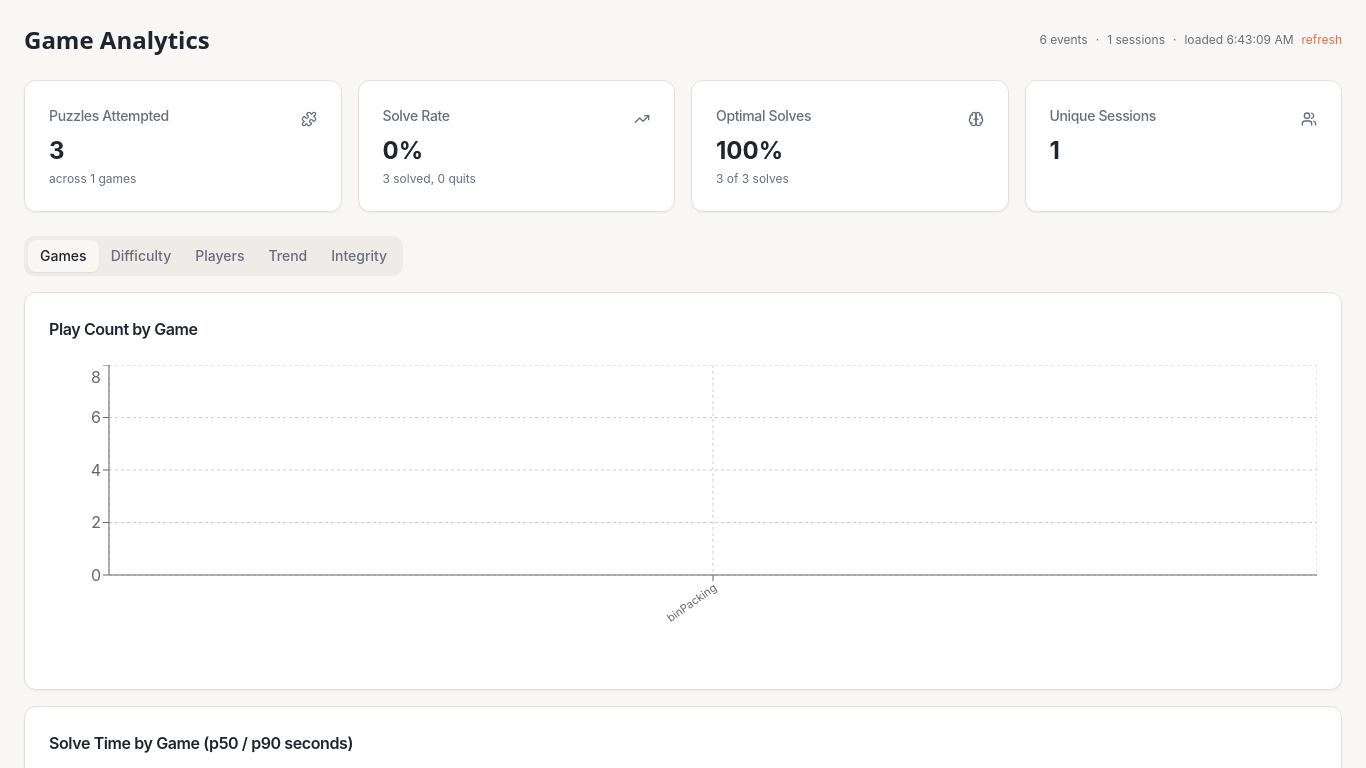
Test: Dashboard › switches to Trend tab and shows activity chart
The width and height of the screenshot is (1366, 768).
Expected: the heading "Game Analytics" is shown, [24,24,210,56]
Click the tab "Trend" at (288, 256), box [256,240,319,272]
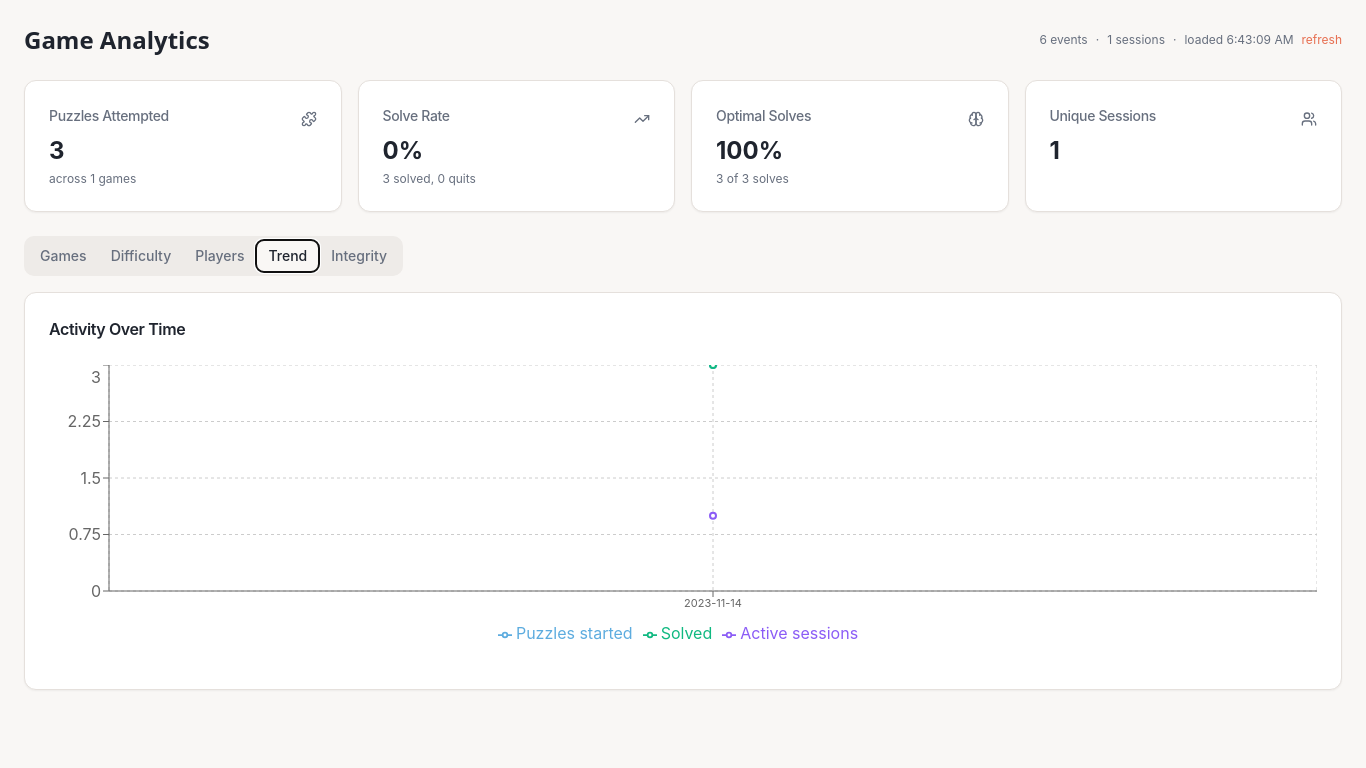
Now the text "Activity Over Time" is shown, box [49,319,185,339]
